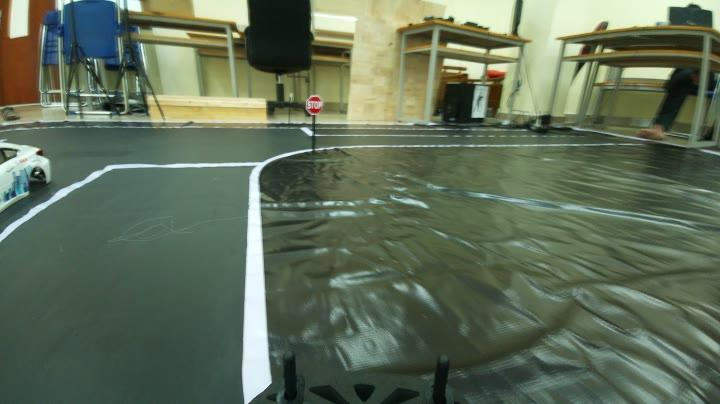stop: (302, 90, 328, 120)
